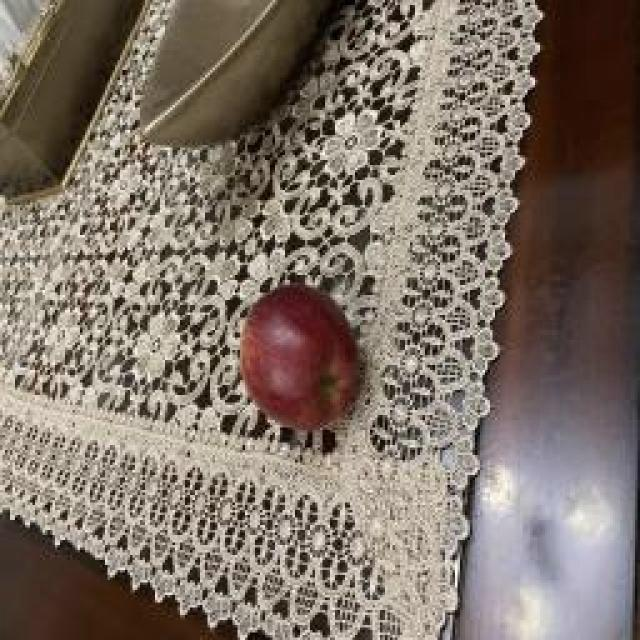apple: (240, 285, 359, 430)
